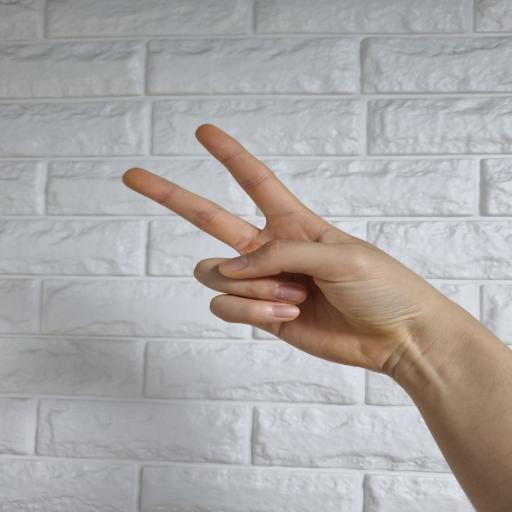Scissors: (122, 121, 444, 378)
